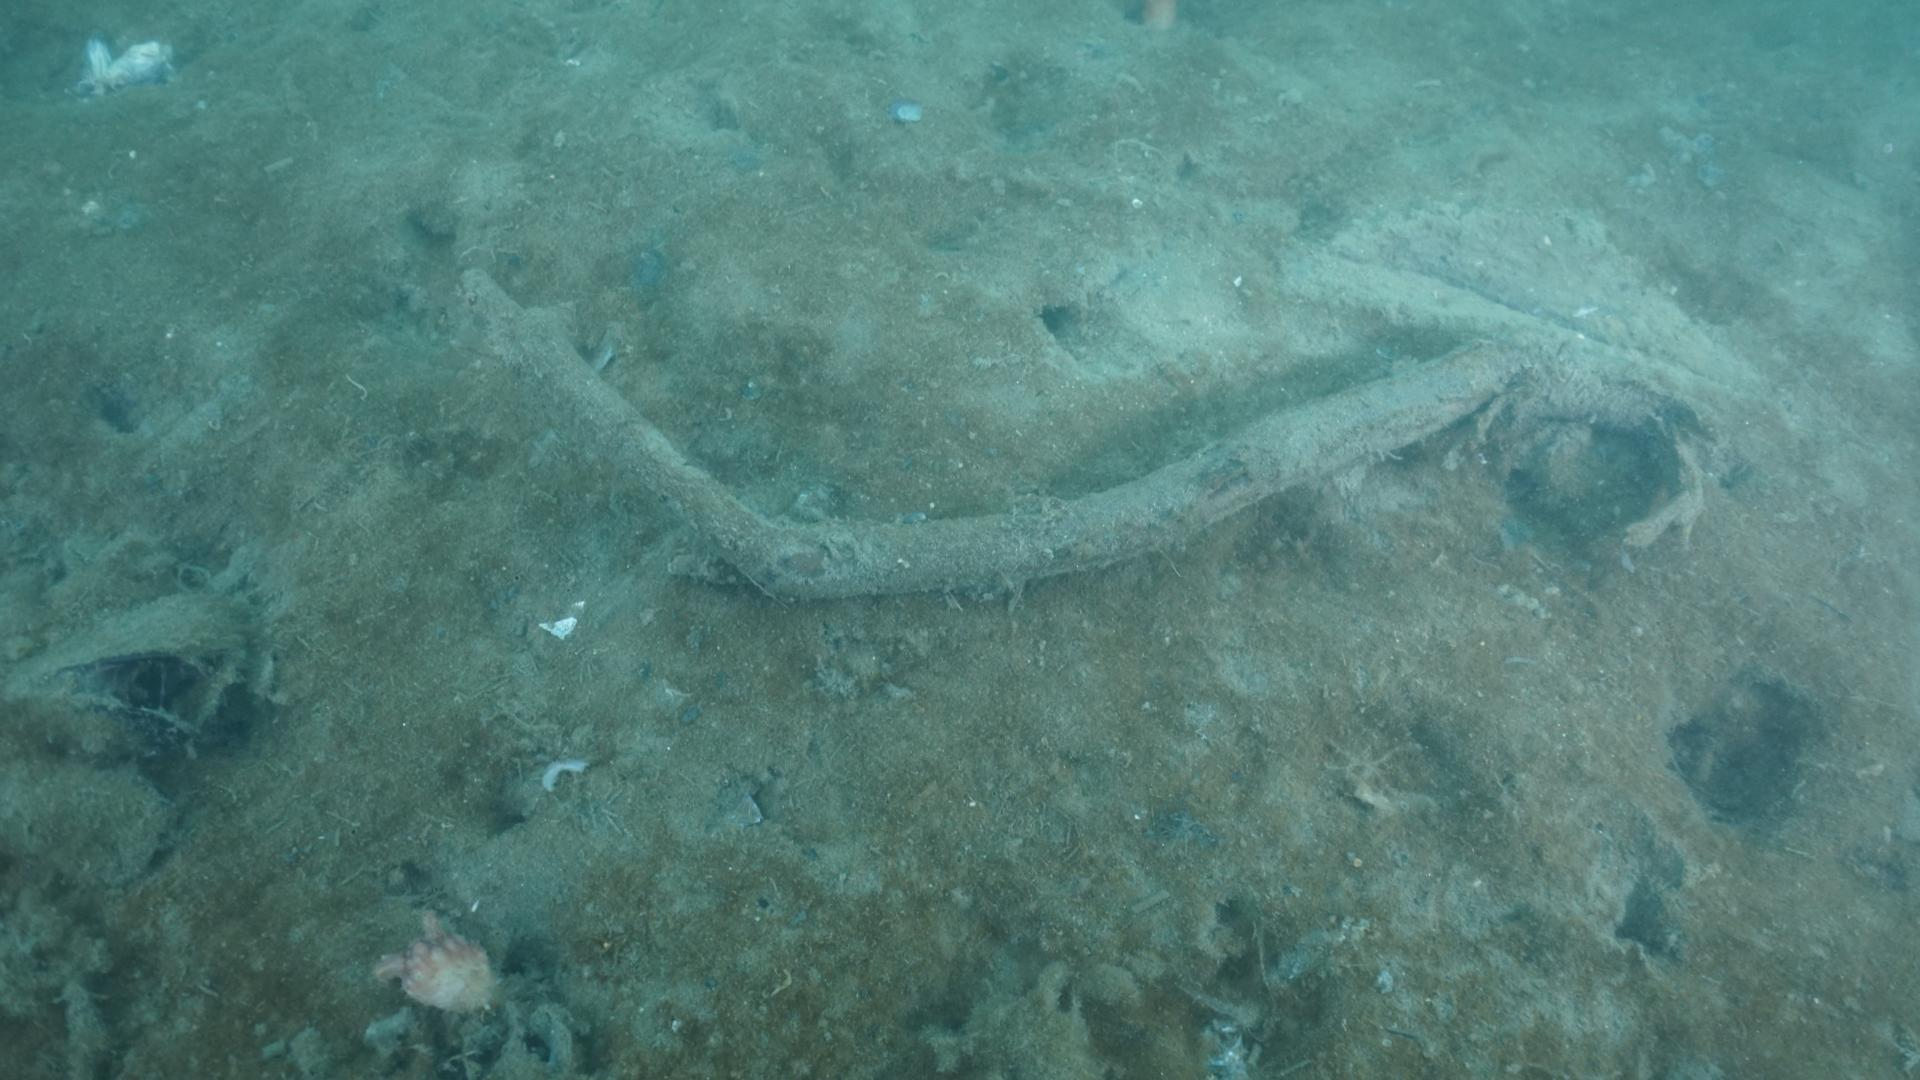wood: (454, 255, 1730, 603)
